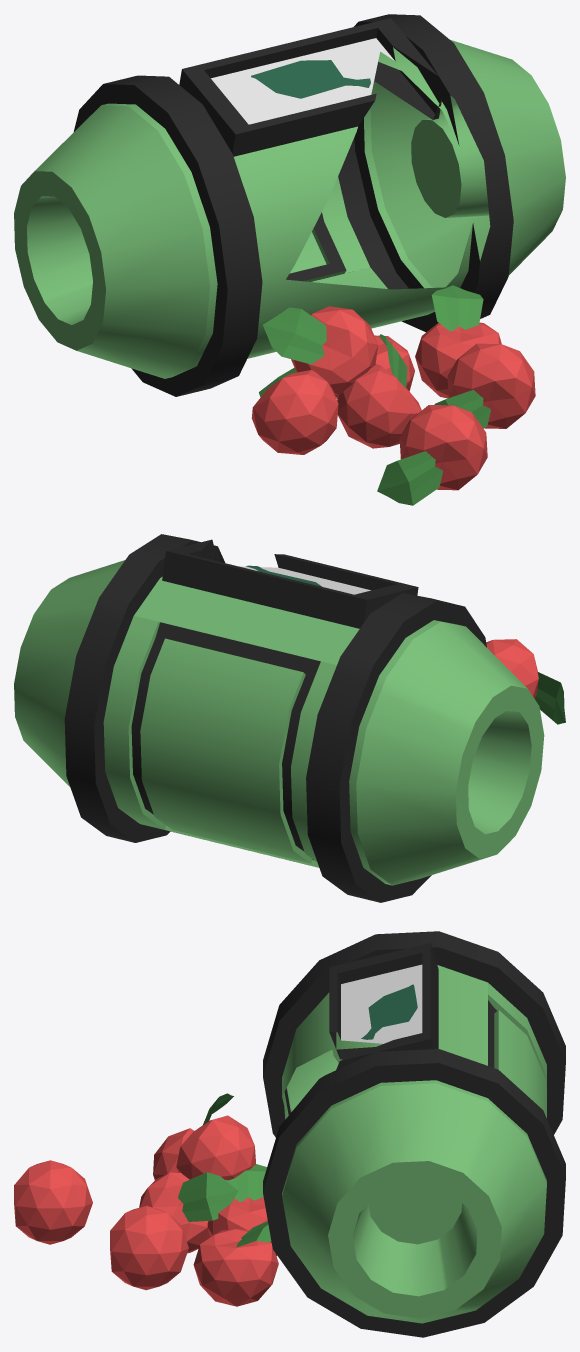
File: Destroyed_PlantTank.fbx
3 views of the same model, one above another, from view 1: azimuth 30°, elevation 25°; view 2: azimuth 150°, elevation 25°; view 3: azimuth 270°, elevation 25° (orthographic). The views are drawn at different scales.
Parts seen in each view (by area): view 1: polySurface2436, pPlatonic13, pPlatonic11, pPlatonic12, pPlatonic9, pPlatonic10, pPlatonic7, pPlatonic8; view 2: polySurface2436, pPlatonic13; view 3: polySurface2436, pPlatonic7, pPlatonic13, pPlatonic12, pPlatonic10, pPlatonic11, pPlatonic8, pPlatonic9.
Part boxes in pixels (box(x1,y1,x2,y2)): polySurface2436: box(14, 14, 565, 396); pPlatonic13: box(377, 405, 487, 505); pPlatonic11: box(263, 306, 377, 394); pPlatonic12: box(434, 343, 535, 428); pPlatonic9: box(251, 367, 338, 454); pPlatonic10: box(337, 334, 421, 448); pPlatonic7: box(415, 285, 501, 398); pPlatonic8: box(335, 335, 414, 398); polySurface2436: box(14, 534, 544, 902); pPlatonic13: box(486, 639, 565, 724); polySurface2436: box(263, 931, 565, 1337); pPlatonic7: box(193, 1221, 278, 1306); pPlatonic13: box(14, 1160, 92, 1244); pPlatonic12: box(110, 1206, 188, 1290); pPlatonic10: box(139, 1171, 238, 1253); pPlatonic11: box(176, 1093, 255, 1180); pPlatonic8: box(207, 1164, 276, 1255); pPlatonic9: box(153, 1128, 193, 1180).
Size of the model in its own units: 2.38 by 1.48 by 2.62.
